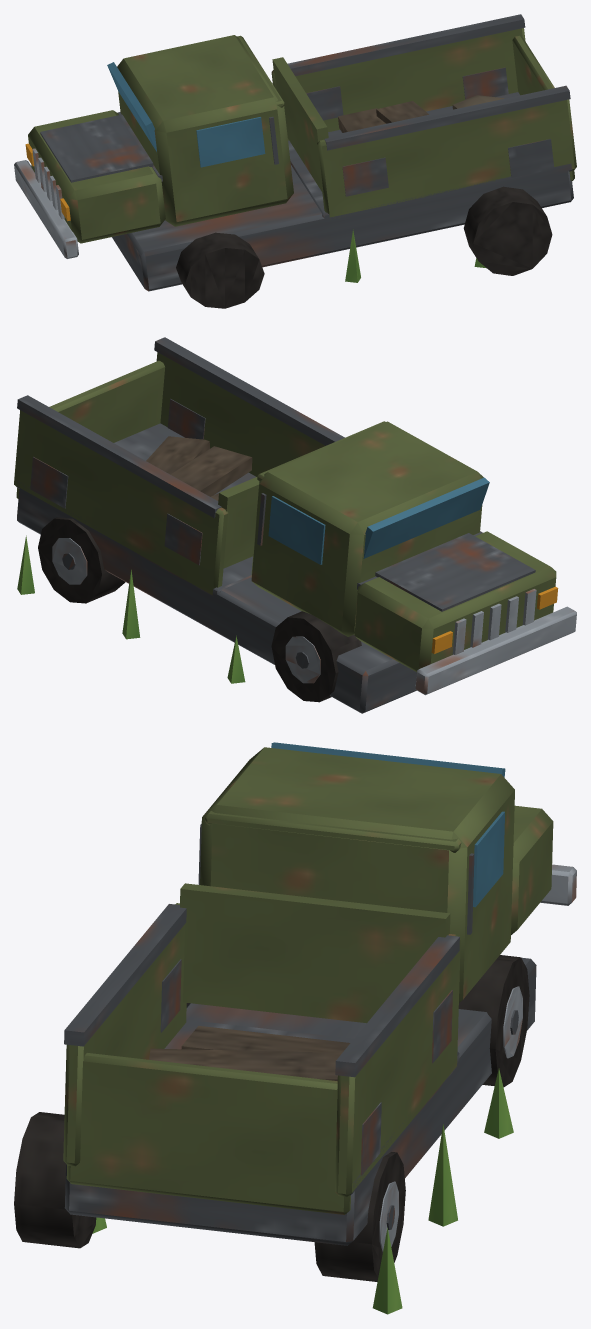
File: SM_POI_BrokenVehicle.fbx
3 renders of one model, top to bottom at view 1: azimuth 30°, elevation 25°; view 2: azimuth 150°, elevation 25°; view 3: azimuth 270°, elevation 25°, orthographic. The views are drawn at different scales.
Visible parts, largest first — view 1: SM_POI_BrokenVehicle; view 2: SM_POI_BrokenVehicle; view 3: SM_POI_BrokenVehicle.
Boxes of the visible parts, x1,y1,x2,y2 form: SM_POI_BrokenVehicle: (14, 14, 576, 308); SM_POI_BrokenVehicle: (14, 337, 576, 713); SM_POI_BrokenVehicle: (14, 742, 576, 1314).
Size of the model in its own units: 15.12 by 5.36 by 9.42.
1 material, 1 textured.
